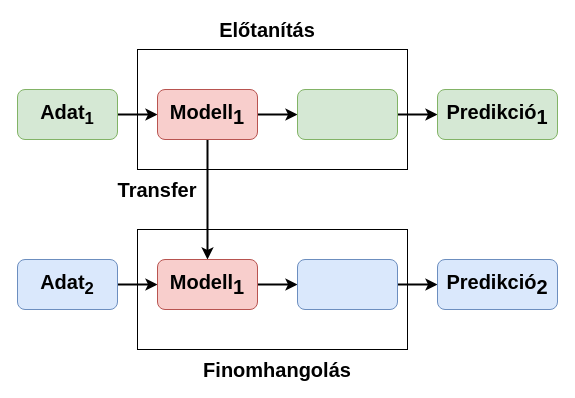
Image size: 575x398. Some labels were removed from this diagram. The centre of each missing label's shape, as x and y in pixels:
Fej: the point at 347,114
Új fej: the point at 347,284
